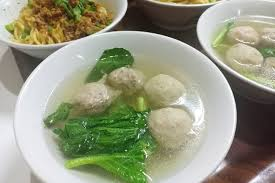bakso: (78, 64, 221, 168)
